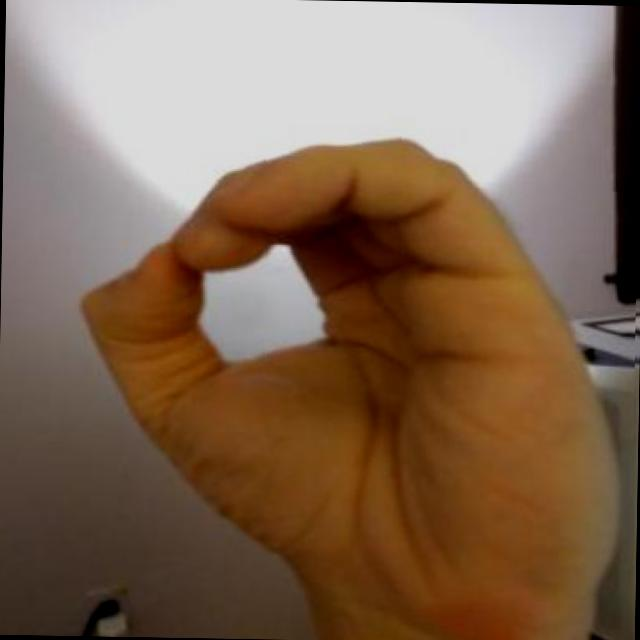O: (54, 109, 638, 640)
